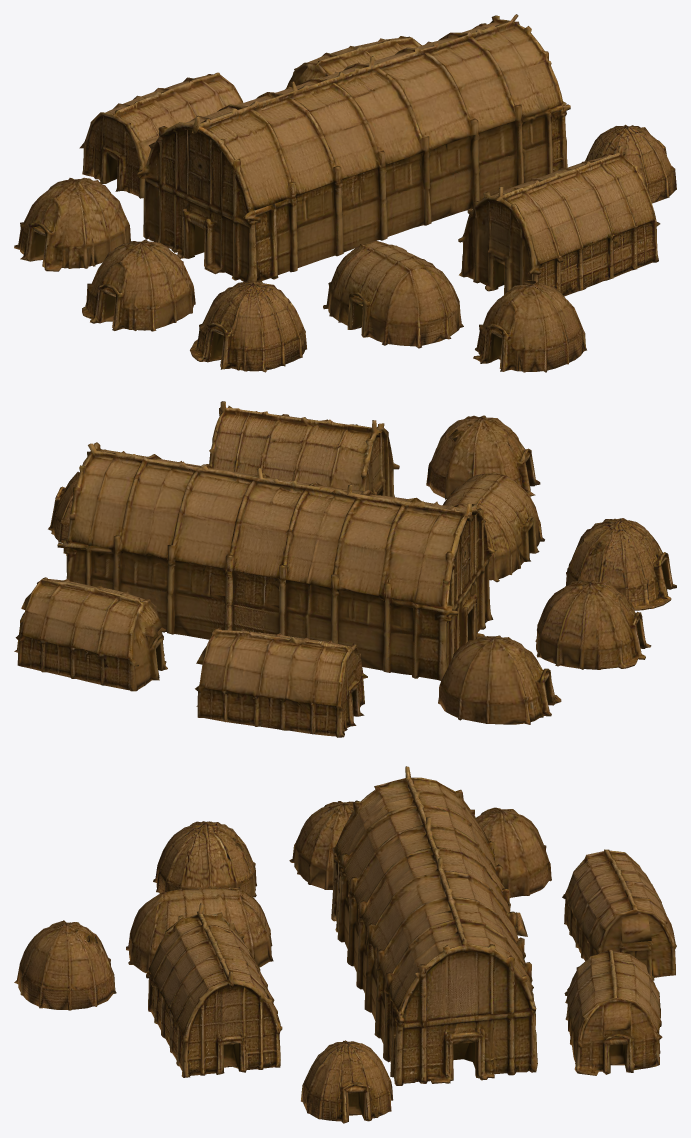
Rendered from Classical Village (North American Native).fbx.
3 renders of one model, top to bottom at view 1: azimuth 30°, elevation 25°; view 2: azimuth 150°, elevation 25°; view 3: azimuth 270°, elevation 25°, orthographic.
Visible parts, largest first — view 1: tripo_node_e12864fd; view 2: tripo_node_e12864fd; view 3: tripo_node_e12864fd.
Boxes of the visible parts, bbox=[...] form: tripo_node_e12864fd: bbox=[14, 14, 676, 372]; tripo_node_e12864fd: bbox=[14, 401, 676, 737]; tripo_node_e12864fd: bbox=[14, 766, 676, 1123].
Size of the model in its own units: 1 by 0.2405 by 0.9968.
